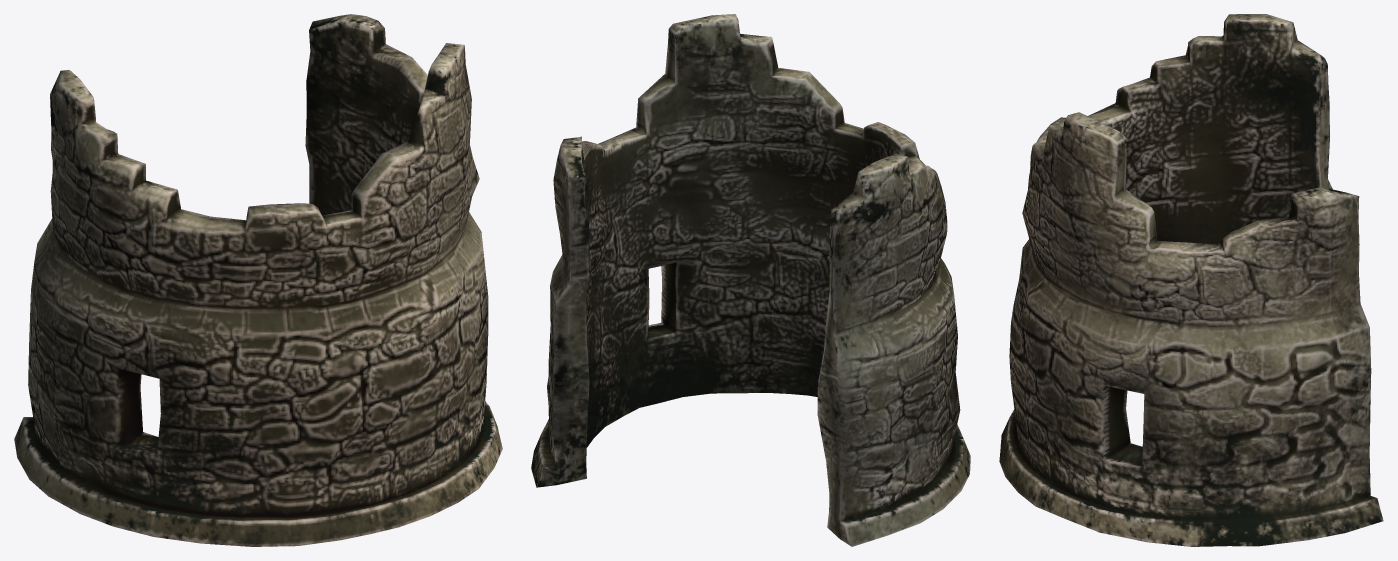
Rendered from zamok3.fbx.
3 renders of one model, left to right at view 1: azimuth 30°, elevation 25°; view 2: azimuth 150°, elevation 25°; view 3: azimuth 270°, elevation 25°, orthographic. The views are drawn at different scales.
Visible parts, largest first — view 1: Lp+.003; view 2: Lp+.003; view 3: Lp+.003.
Part boxes in pixels (x1,y1,x2,y2): Lp+.003: (14, 14, 502, 546); Lp+.003: (531, 14, 970, 546); Lp+.003: (999, 14, 1383, 546).
Bounding box in the file's own units: 1679 × 1581 × 1433.
